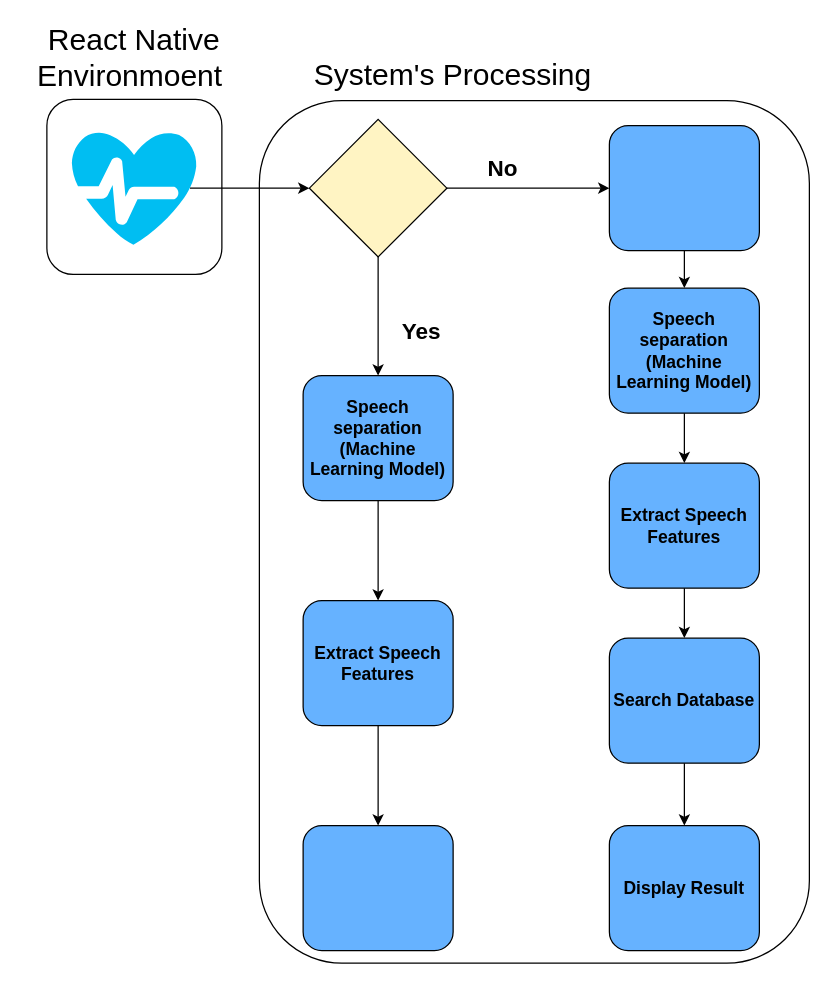
The diagram is 831 pixels wide and 985 high, and some of its shapes have lost their labels. The shapes that lost their labels are listed below. From the top down, each one's centre as x and y in pixels, then its label:
the point at 377,187: First time user?
the point at 683,187: Signal Denoising (Machine Learning Model)
the point at 377,887: Store Speech Features in Database
